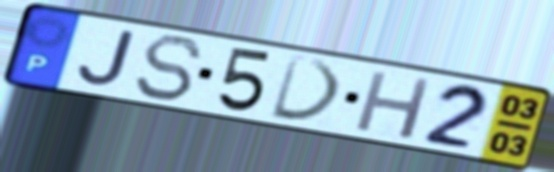2: (415, 80, 496, 154)
5: (215, 46, 274, 113)
D: (267, 52, 346, 125)
H: (351, 68, 437, 143)
J: (74, 28, 139, 89)
S: (132, 32, 207, 104)
